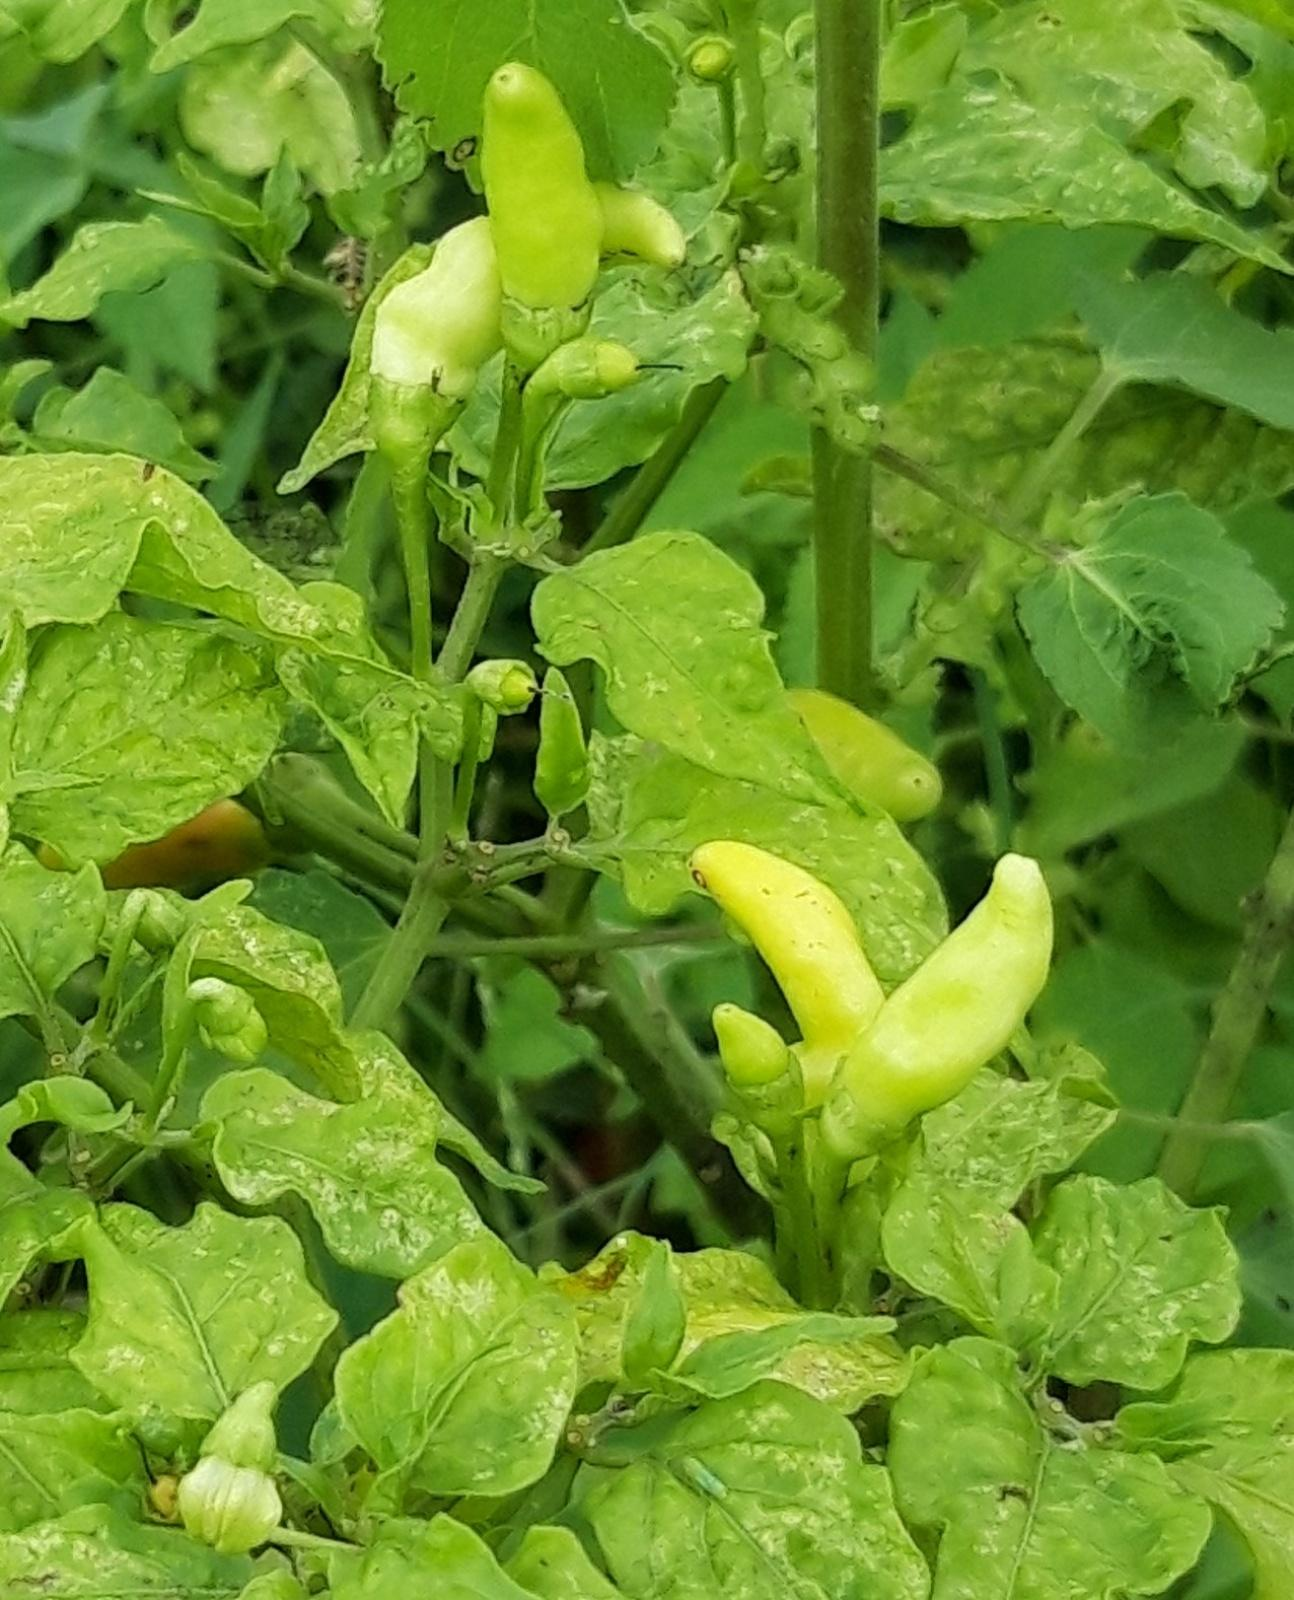cabai_normal: (371, 181, 685, 412), (842, 851, 1054, 1123), (689, 836, 895, 1086), (481, 63, 602, 327), (709, 1003, 799, 1086)
